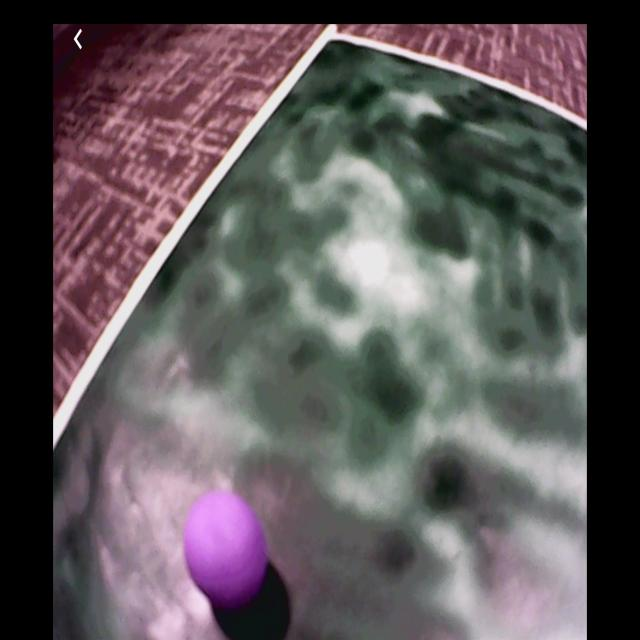ball: (186, 490, 269, 604)
